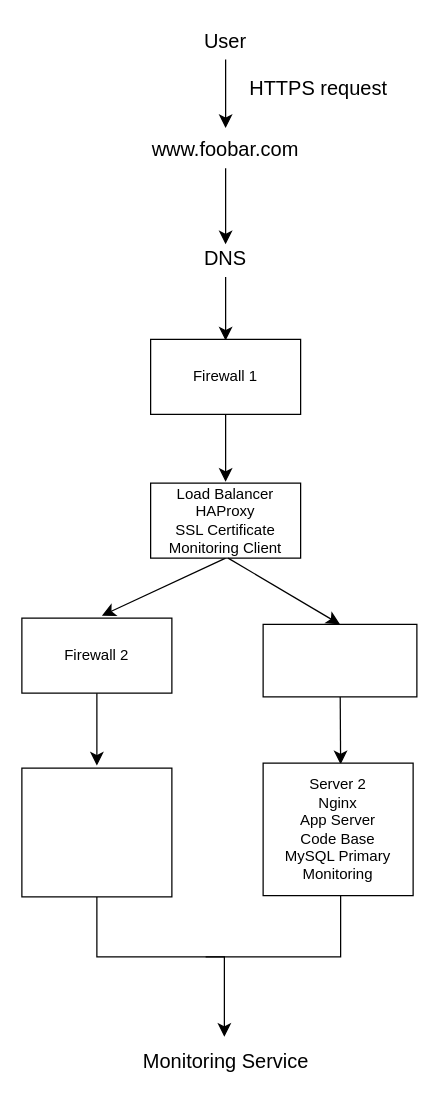
Image size: 439x1100. Some labels were removed from this diagram. The box of each missing label's shape, as (x1, y1, x2, y2) in pixels:
Firewall 3: (262, 623, 417, 697)
Server 1 Nginx App Server Code Base MySQL Primary Monitoring: (21, 767, 172, 897)
